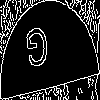G: (25, 25, 50, 77)
